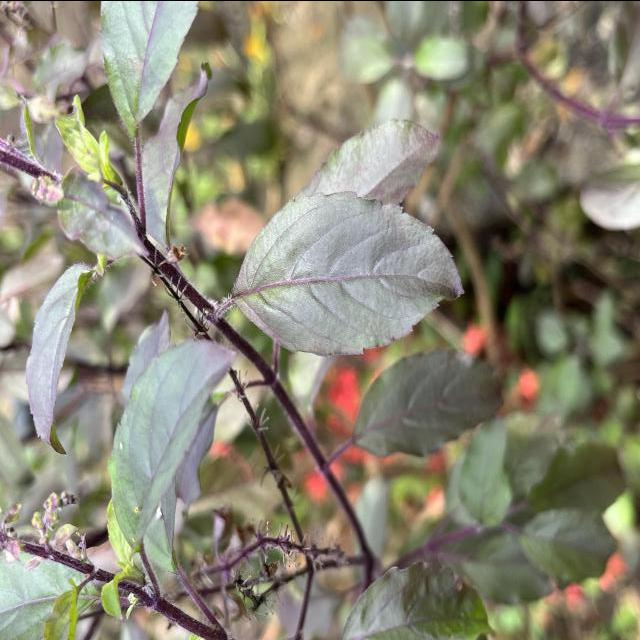Ocimum tenuiflorum: (232, 188, 468, 358)
